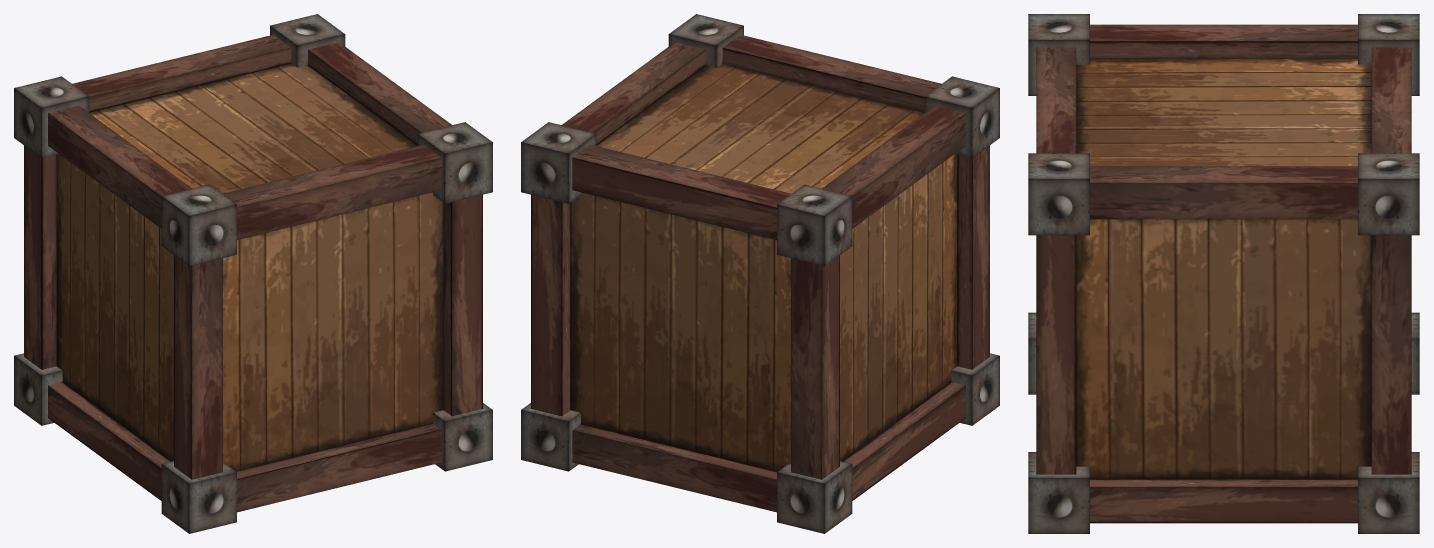
Rendered from Crate1.fbx.
The picture shows the model from 3 angles, left to right: view 1: azimuth 30°, elevation 25°; view 2: azimuth 150°, elevation 25°; view 3: azimuth 270°, elevation 25°; orthographic projection. The views are drawn at different scales.
Parts seen in each view (by area): view 1: Cube; view 2: Cube; view 3: Cube.
Part boxes in pixels (x1,y1,x2,y2): Cube: (14,14,492,533); Cube: (521,14,999,533); Cube: (1028,14,1419,533).
Size of the model in its own units: 208 by 208 by 208.
